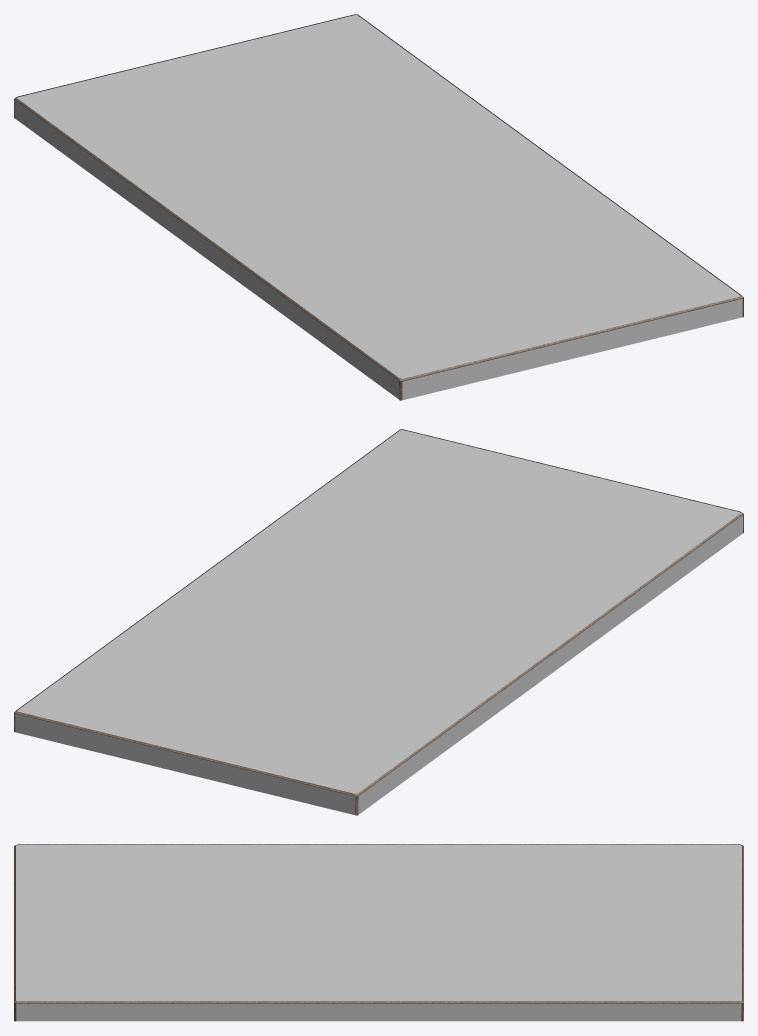
Rendered from ConcecretePlatformLarge.FBX.
3 views of the same model, one above another, from view 1: azimuth 30°, elevation 25°; view 2: azimuth 150°, elevation 25°; view 3: azimuth 270°, elevation 25° (orthographic). The views are drawn at different scales.
Parts seen in each view (by area): view 1: ConcecretePlatformA; view 2: ConcecretePlatformA; view 3: ConcecretePlatformA.
Boxes of the visible parts, left/top/right/bottom form: ConcecretePlatformA: left=14, top=14, right=743, bottom=400; ConcecretePlatformA: left=14, top=429, right=743, bottom=815; ConcecretePlatformA: left=14, top=844, right=743, bottom=1021.
Size of the model in its own units: 1275 by 73.5 by 2484.
